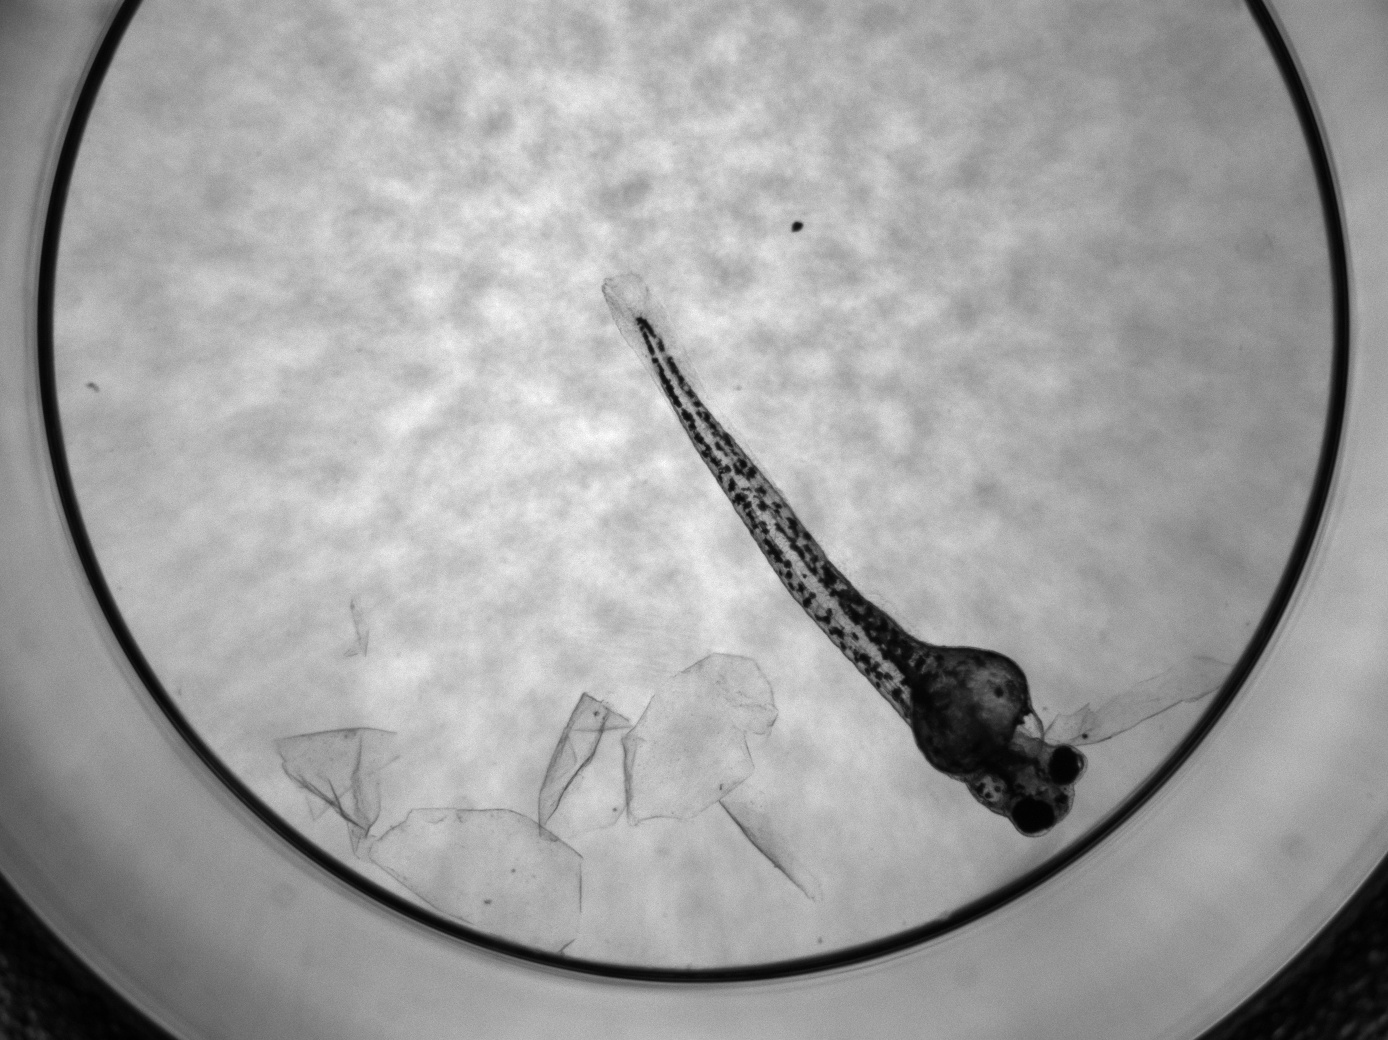debris: (274, 725, 585, 954), (620, 651, 781, 830), (537, 692, 646, 847)
embryo: (637, 315, 1087, 838)
eye: (1011, 799, 1056, 835), (1049, 745, 1084, 785)
yolksac: (904, 647, 1046, 779)
